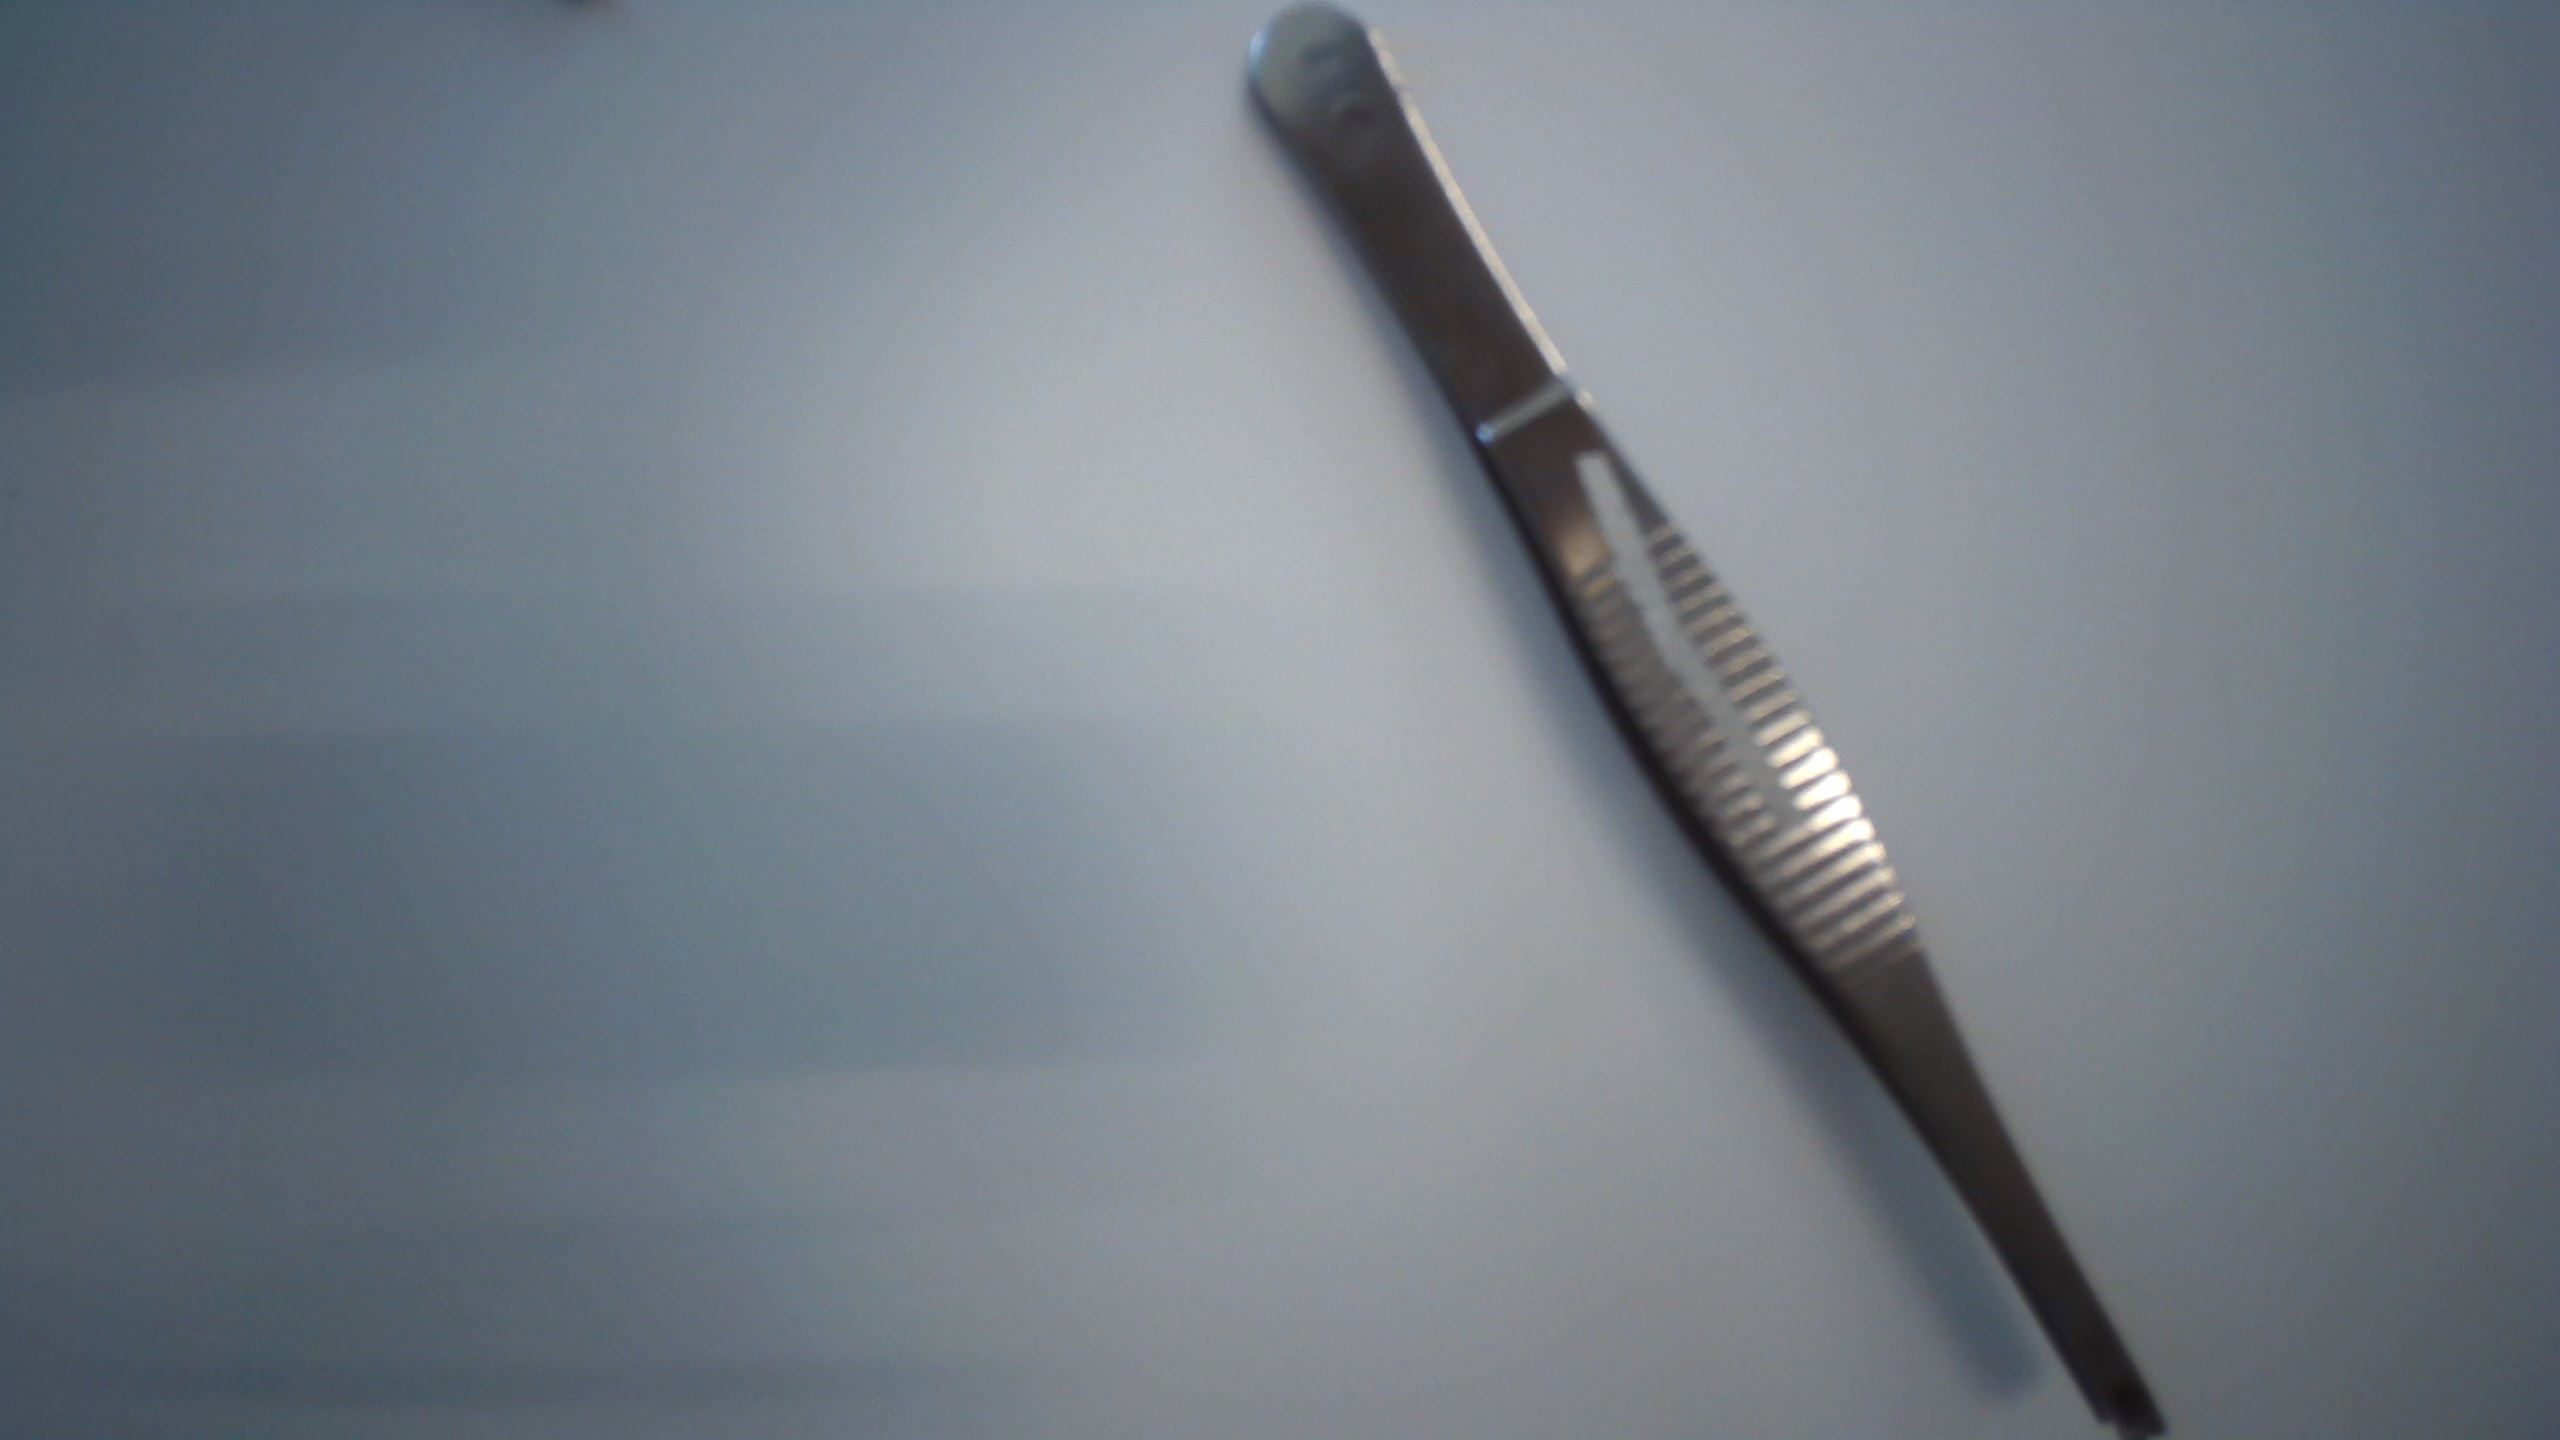Scratches: (1551, 443, 1816, 847)
